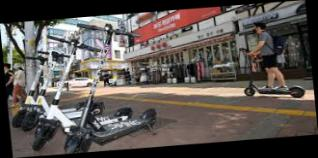nonhelmet: (233, 17, 308, 104)
